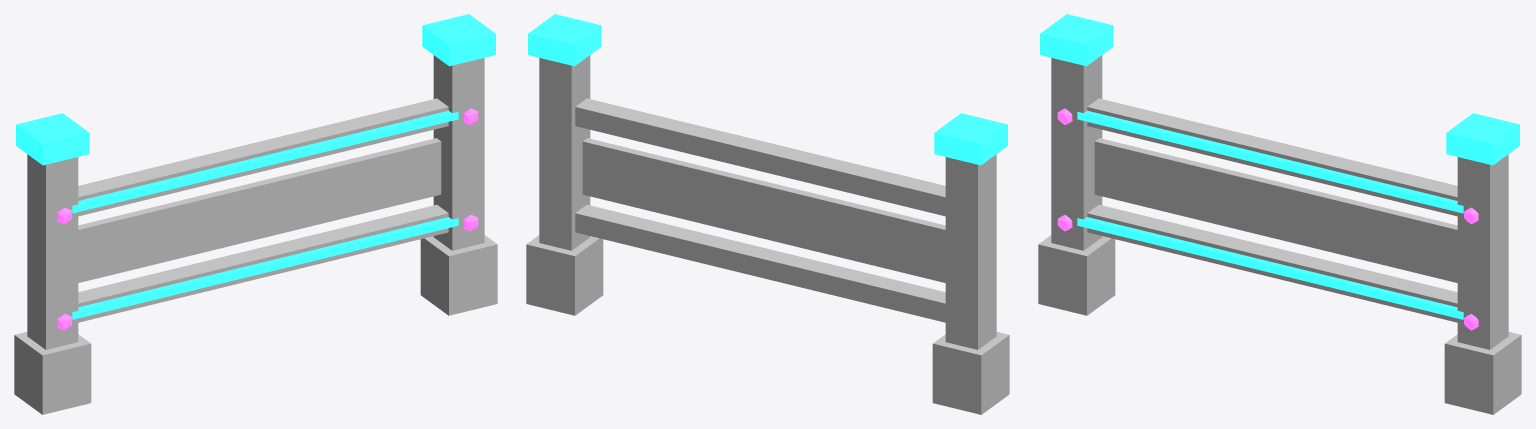
3 views of the same model, side by side, from view 1: azimuth 30°, elevation 25°; view 2: azimuth 150°, elevation 25°; view 3: azimuth 330°, elevation 25° (orthographic).
Visible parts, largest first — view 1: Neon_FenceStraight_Showcase; view 2: Neon_FenceStraight_Showcase; view 3: Neon_FenceStraight_Showcase.
Boxes of the visible parts, bbox=[...] form: Neon_FenceStraight_Showcase: bbox=[14, 14, 497, 414]; Neon_FenceStraight_Showcase: bbox=[526, 14, 1009, 414]; Neon_FenceStraight_Showcase: bbox=[1038, 14, 1521, 414].
Bounding box in the file's own units: 2.24 × 1.27 × 0.2413.
